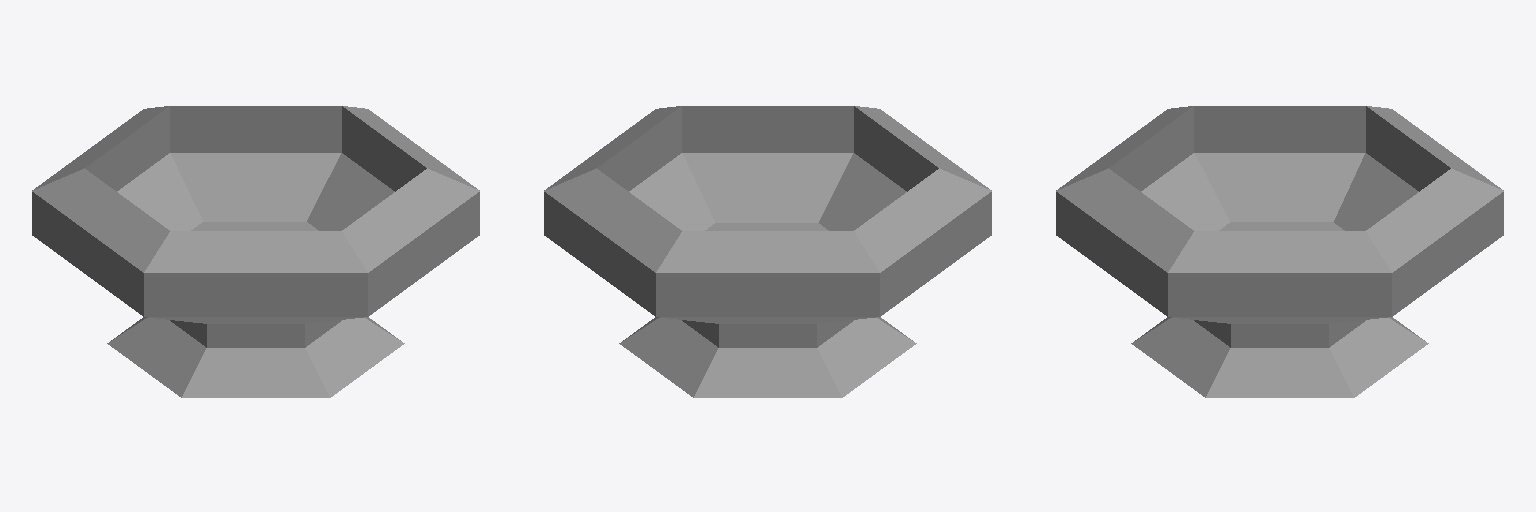
File: elementalbasin.obj
The picture shows the model from 3 angles: view 1: azimuth 30°, elevation 25°; view 2: azimuth 150°, elevation 25°; view 3: azimuth 270°, elevation 25°; orthographic projection.
Parts seen in each view (by area): view 1: Cylinder; view 2: Cylinder; view 3: Cylinder.
Boxes of the visible parts, <box> form: Cylinder: <box>32,106,479,397</box>; Cylinder: <box>544,106,991,397</box>; Cylinder: <box>1056,106,1503,397</box>.
Bounding box in the file's own units: 0.8435 × 0.4198 × 0.974.